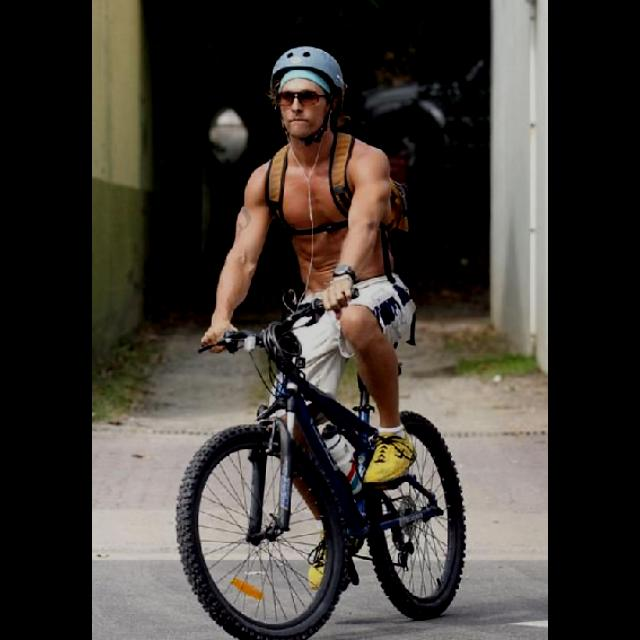With Helmet: (262, 40, 346, 152)
